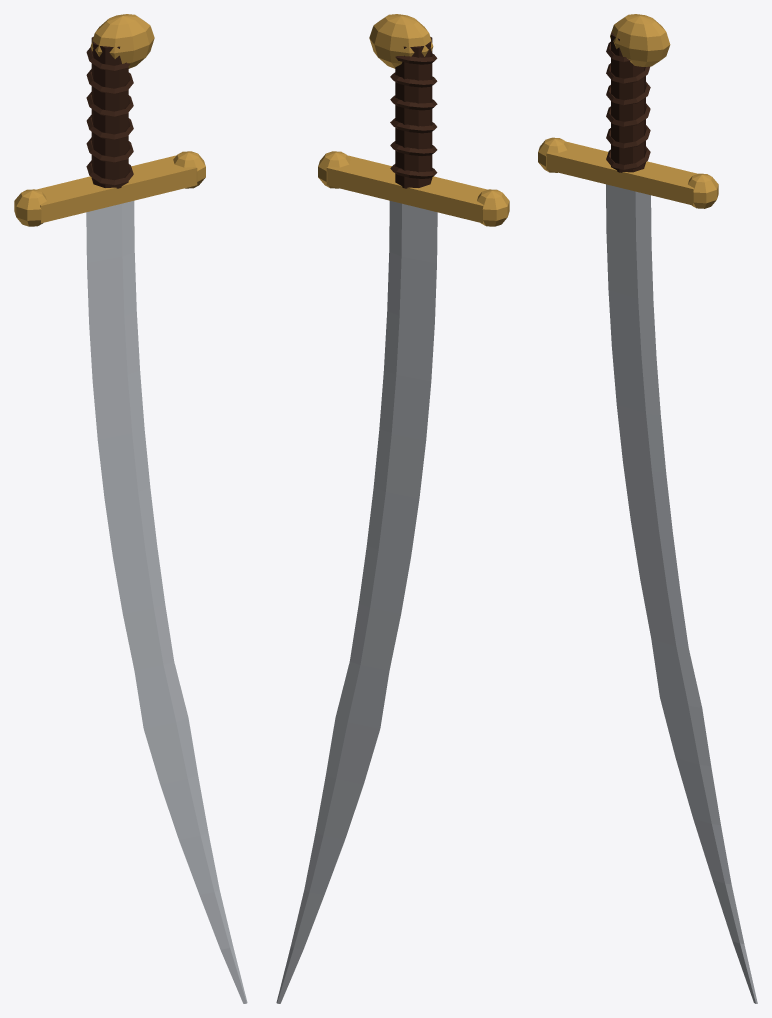
File: krummsaebel.glb
3 renders of one model, left to right at view 1: azimuth 30°, elevation 25°; view 2: azimuth 150°, elevation 25°; view 3: azimuth 330°, elevation 25°, orthographic. The views are drawn at different scales.
Visible parts, largest first — view 1: krummsaebel; view 2: krummsaebel; view 3: krummsaebel.
Part boxes in pixels (box(x1,y1,x2,y2)): krummsaebel: box(14, 14, 247, 1003); krummsaebel: box(276, 14, 509, 1003); krummsaebel: box(538, 14, 757, 1003).
Bounding box in the file's own units: 0.2222 × 0.934 × 0.0384.
